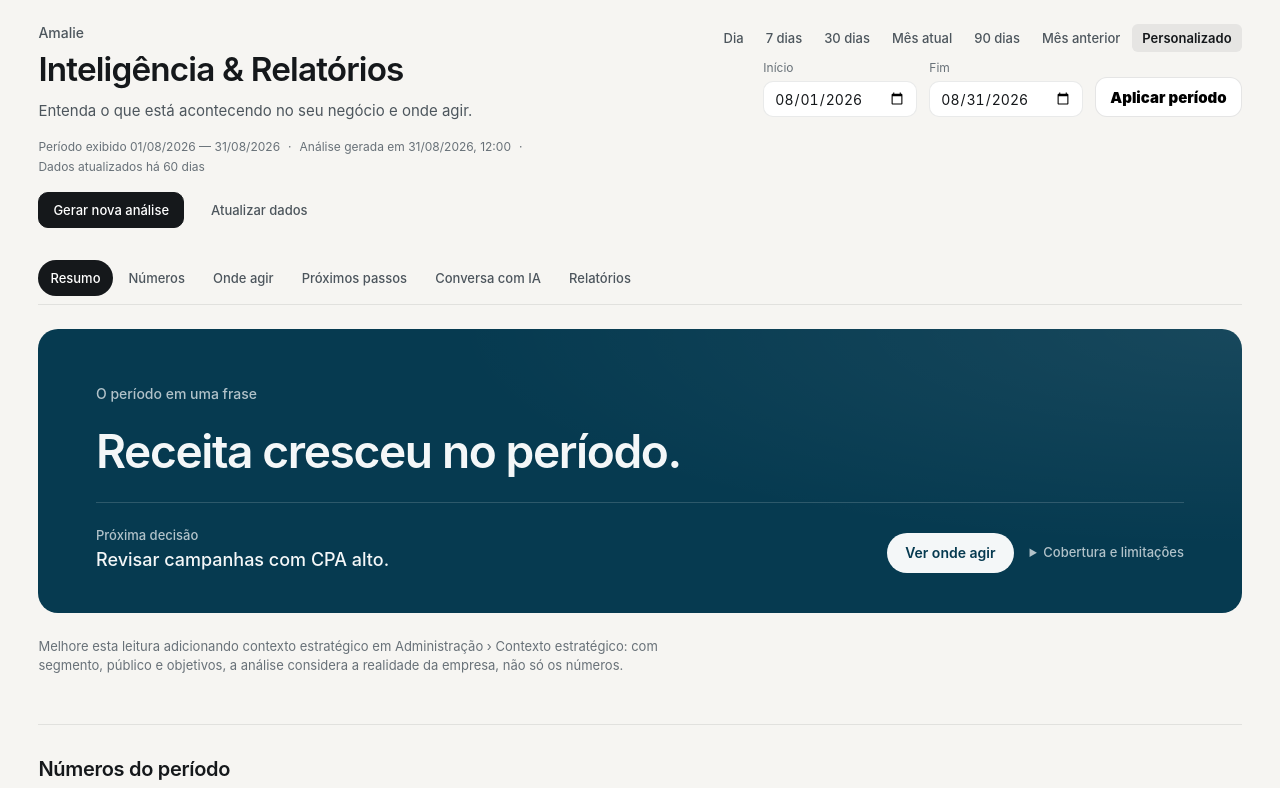
Intelligence — estados da leitura › erro com análise anterior preserva a leitura e avisa discretamente
Expected: the text with class "intelMomentLead" reads "Receita cresceu no período.", [96, 423, 681, 479]
Click the button "Gerar nova análise": (111, 210) [38, 192, 184, 228]
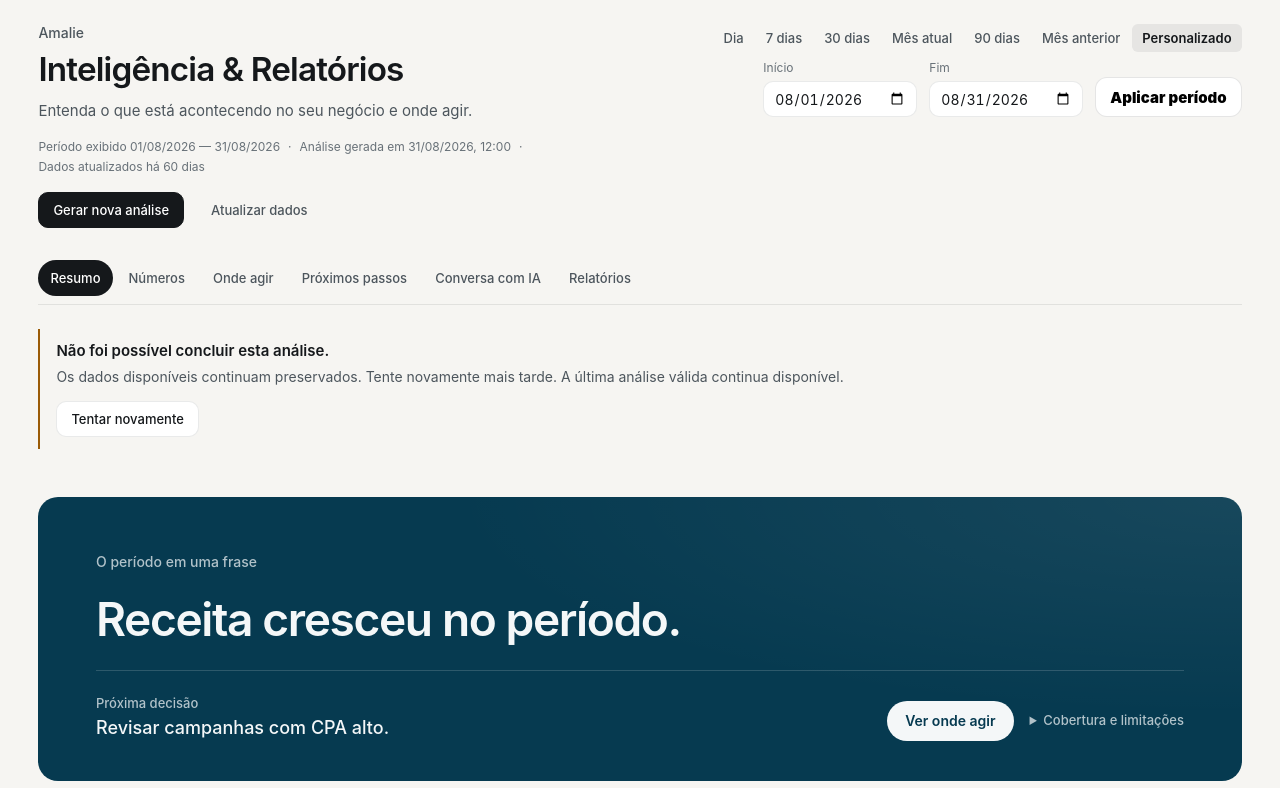
Expected: the text with class "intelMomentLead" reads "Receita cresceu no período.", [96, 591, 681, 647]
Now the message with test id "intel-stale-warning" shows "A última análise válida continua disponível", box [557, 368, 844, 385]
